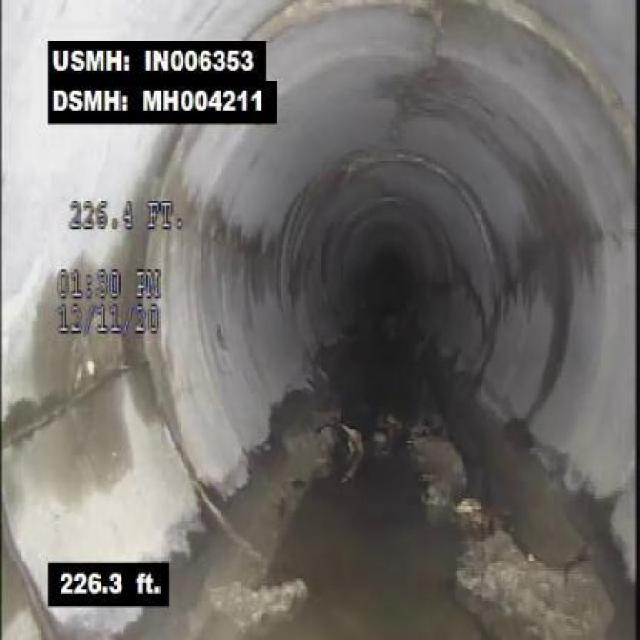Debris: (446, 516, 625, 638), (194, 558, 334, 636), (397, 422, 481, 512)
